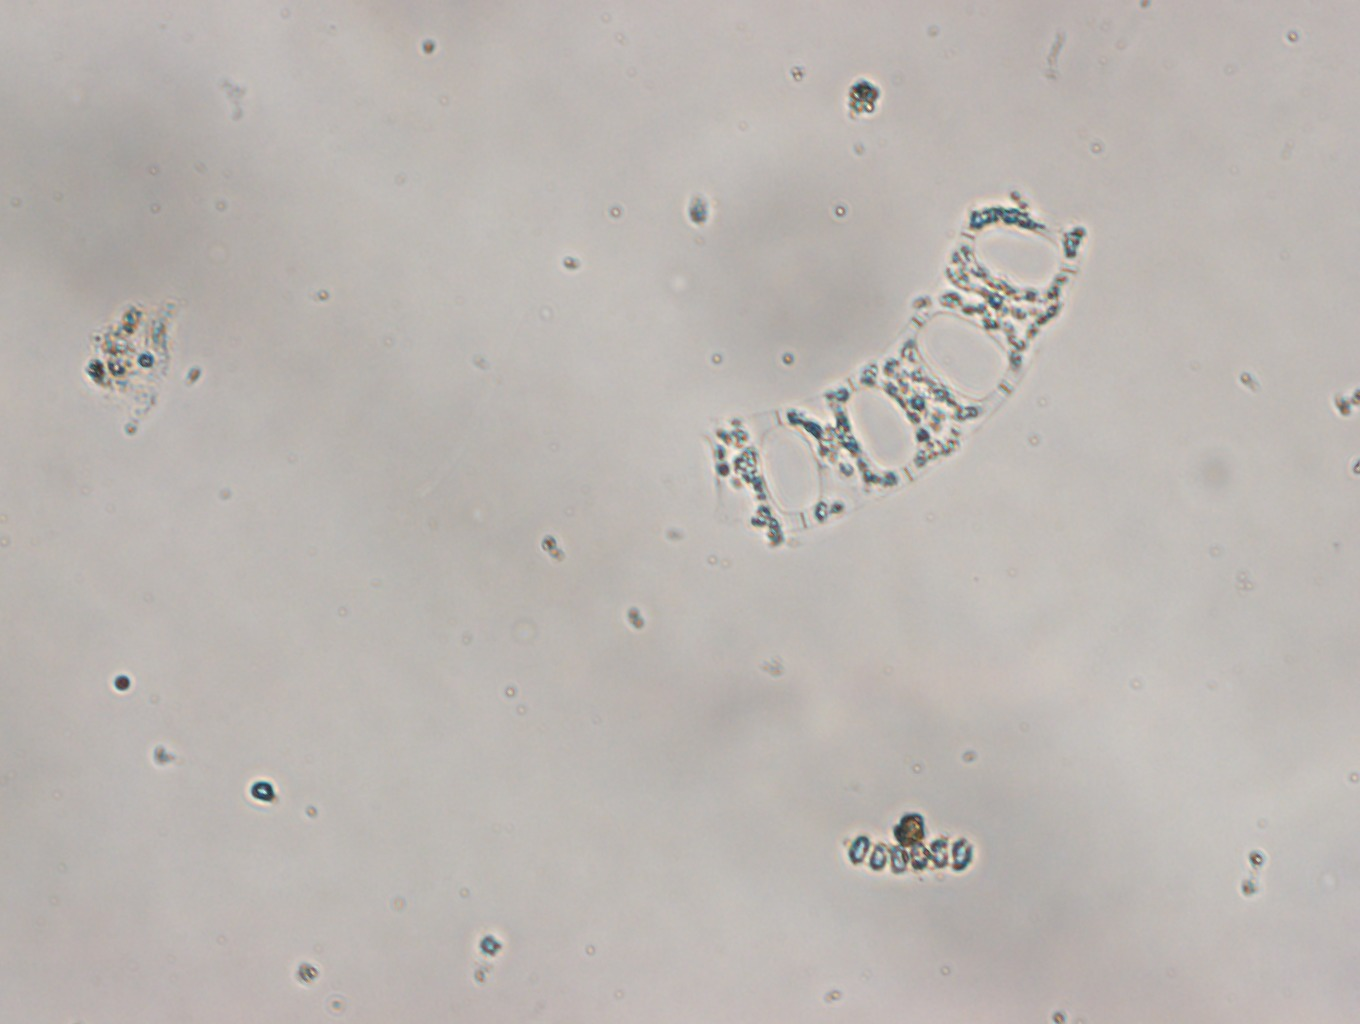eucampia: (711, 186, 1087, 550)
